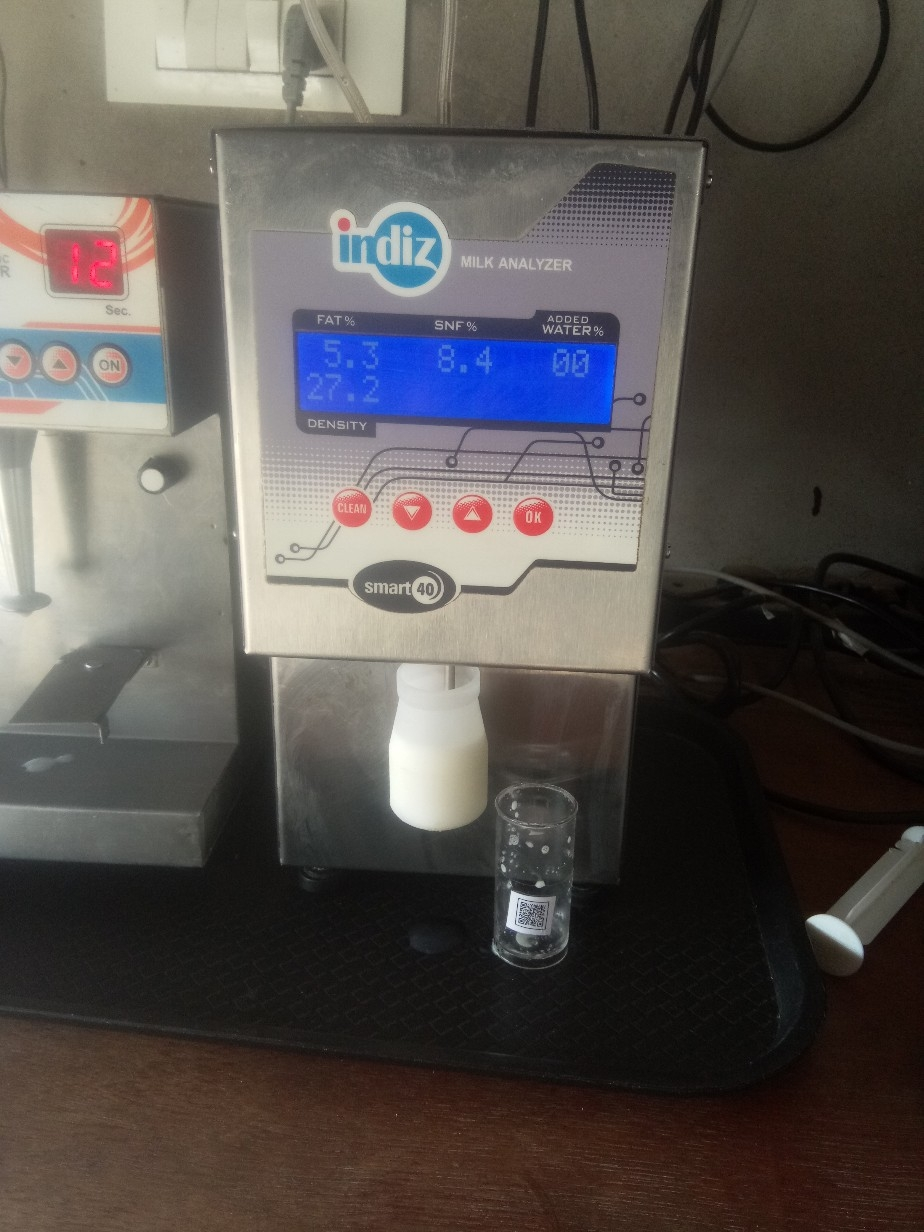lcd: (287, 321, 621, 440)
qr: (508, 893, 557, 936)
